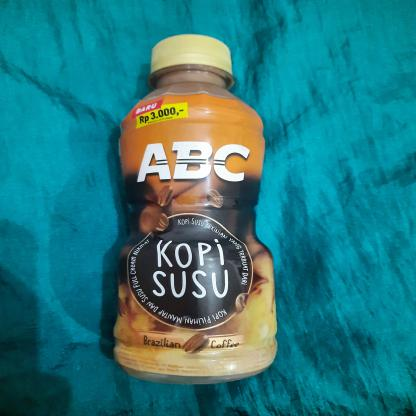plastic: (108, 30, 286, 388)
